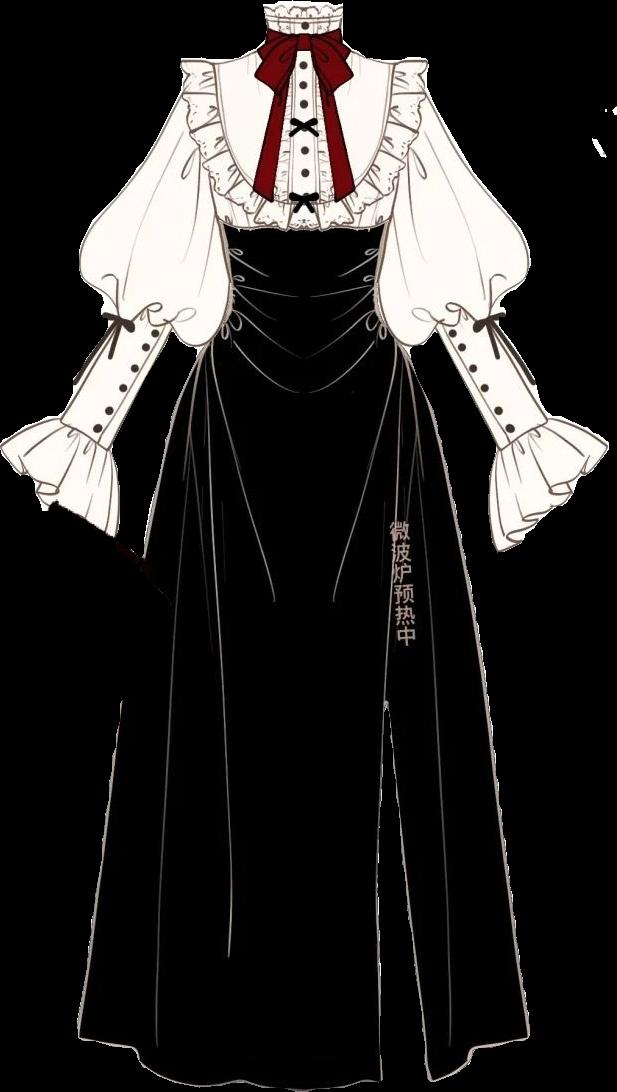Bodice: (177, 1, 429, 231)
Hemline: (76, 725, 534, 1091)
Neckline: (207, 60, 403, 211), (262, 0, 345, 25)
Skirt: (77, 217, 529, 1091)
Sleeve: (384, 82, 608, 552), (0, 92, 234, 536)
Sleeveline: (174, 93, 224, 216), (391, 97, 436, 223), (493, 406, 551, 449), (56, 410, 115, 449), (437, 303, 505, 336), (111, 308, 170, 345)
Waistline: (178, 51, 434, 229), (213, 212, 398, 238)
